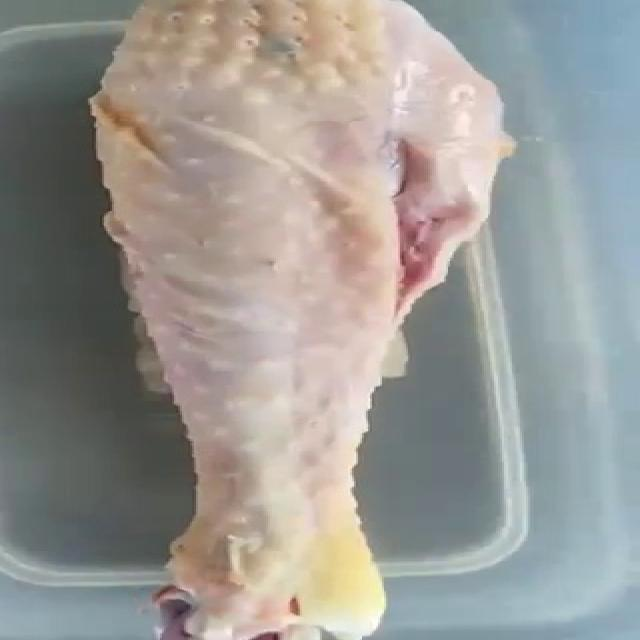chicken: (76, 0, 516, 640)
